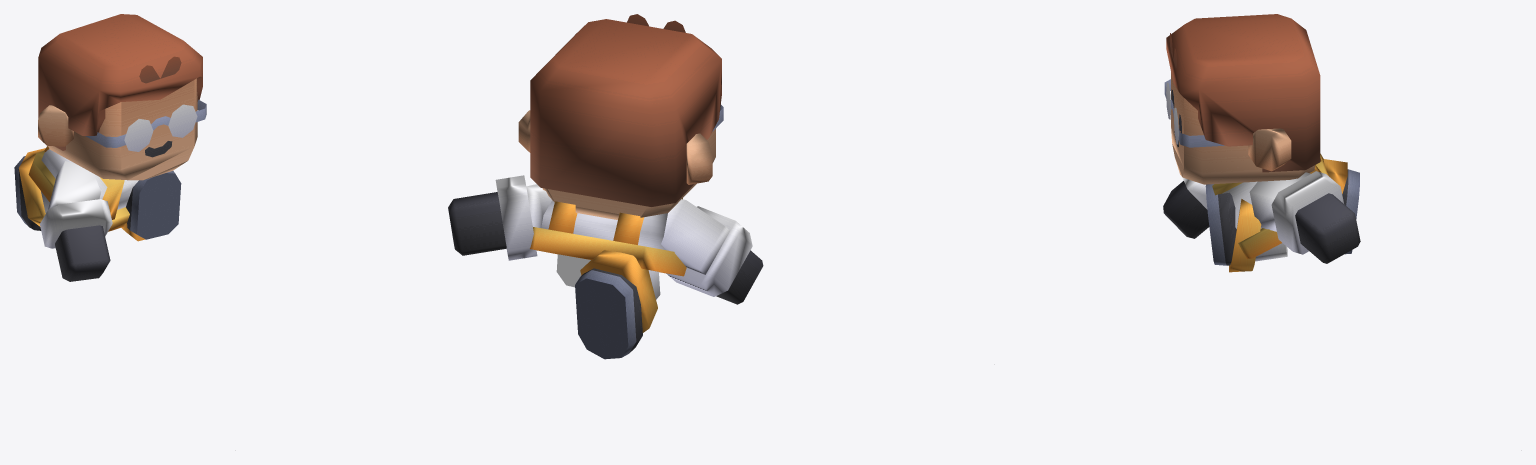
File: builder_sprint_3.glb
3 views of the same model, side by side, from view 1: azimuth 30°, elevation 25°; view 2: azimuth 150°, elevation 25°; view 3: azimuth 270°, elevation 25° (orthographic). The views are drawn at different scales.
Parts seen in each view (by area): view 1: builder-sprint-3; view 2: builder-sprint-3; view 3: builder-sprint-3.
Boxes of the visible parts, x1=… form: builder-sprint-3: x1=14, y1=14, x2=206, y2=281; builder-sprint-3: x1=448, y1=14, x2=763, y2=359; builder-sprint-3: x1=1163, y1=14, x2=1360, y2=272.
Bounding box in the file's own units: 1.2 × 0.8259 × 1.2.
1 material, 1 textured.
